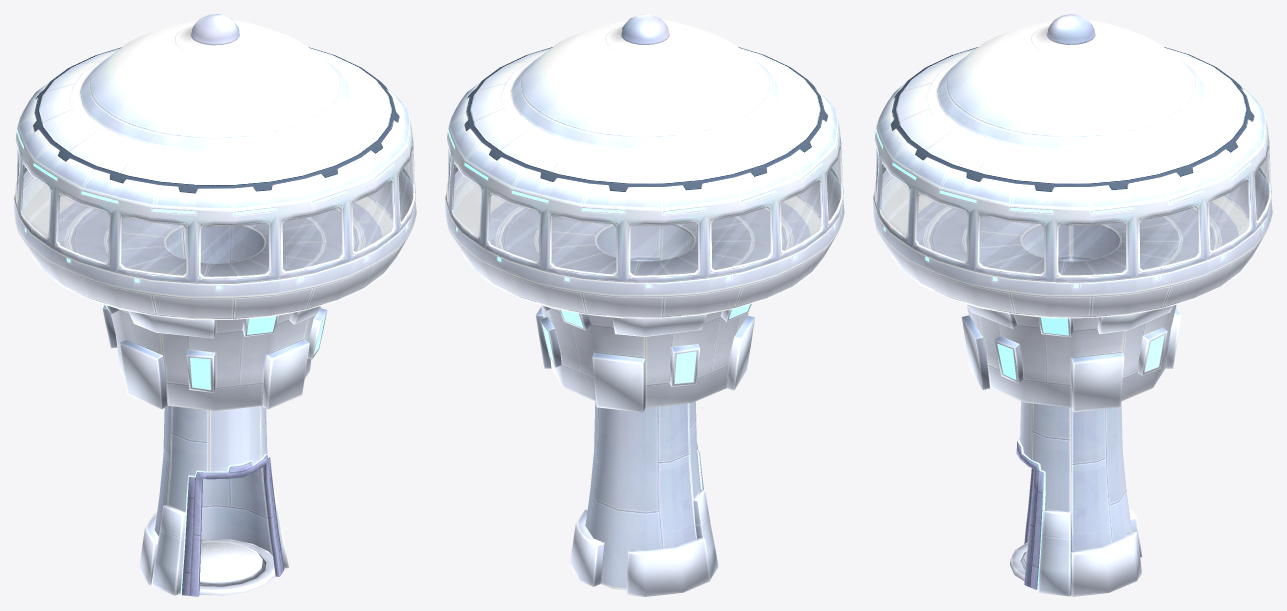
Rendered from obj_tower01.gltf.
3 views of the same model, side by side, from view 1: azimuth 30°, elevation 25°; view 2: azimuth 150°, elevation 25°; view 3: azimuth 270°, elevation 25° (orthographic).
Parts seen in each view (by area): view 1: obj_tower01, obj_tower01_platform; view 2: obj_tower01; view 3: obj_tower01.
Boxes of the visible parts, left/top/right/bottom form: obj_tower01: left=14, top=14, right=416, bottom=596; obj_tower01_platform: left=199, top=542, right=262, bottom=585; obj_tower01: left=445, top=14, right=844, bottom=596; obj_tower01: left=873, top=14, right=1272, bottom=596.
Size of what is drawn, in the model's own units: 7.79 by 11.85 by 7.82.
3 materials, 2 textured.
